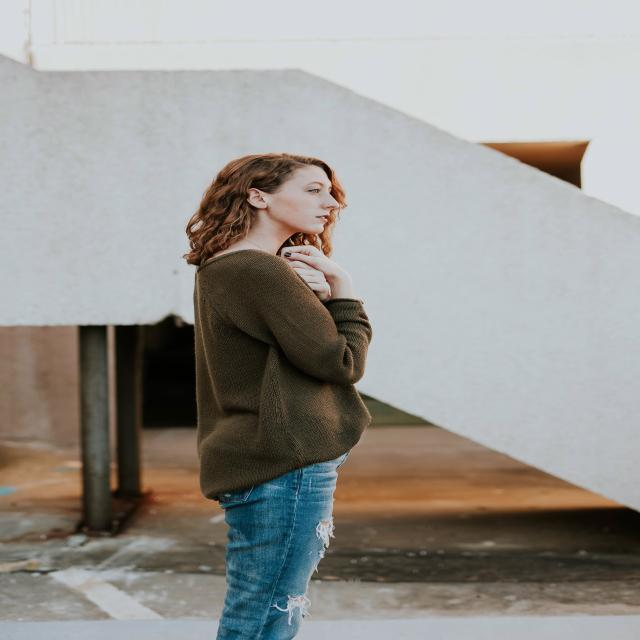adult: (186, 150, 378, 640)
